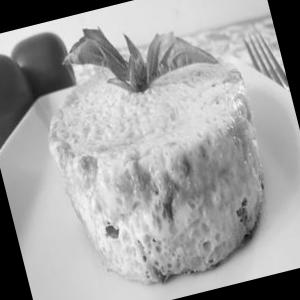omelet: (20, 18, 296, 300)
